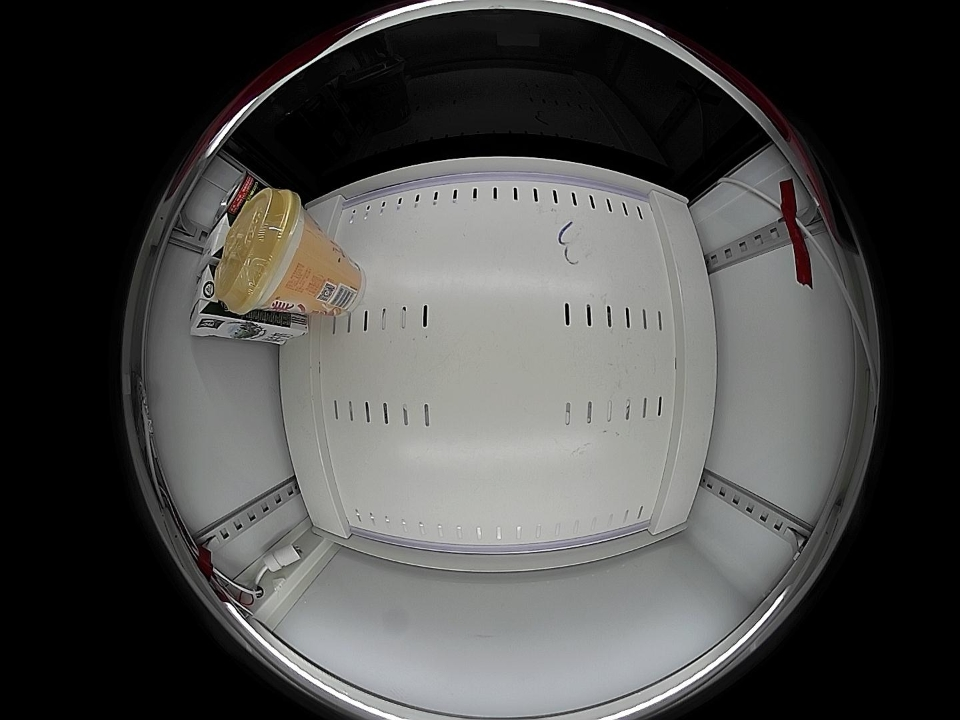jindian: (188, 266, 232, 339), (194, 213, 236, 275)
yezhi: (216, 172, 265, 224)
youlemei: (216, 188, 311, 316)
